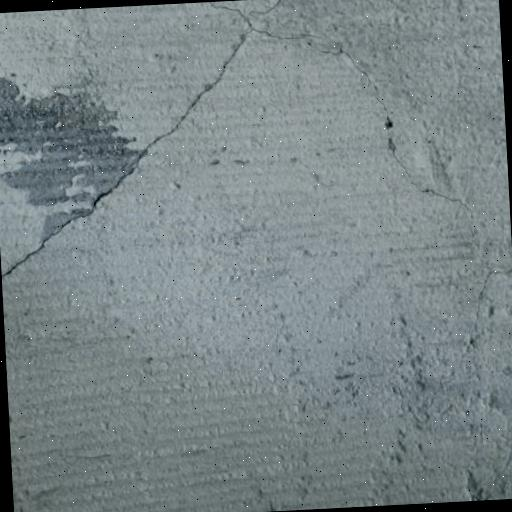spalling: (2, 31, 253, 283)
